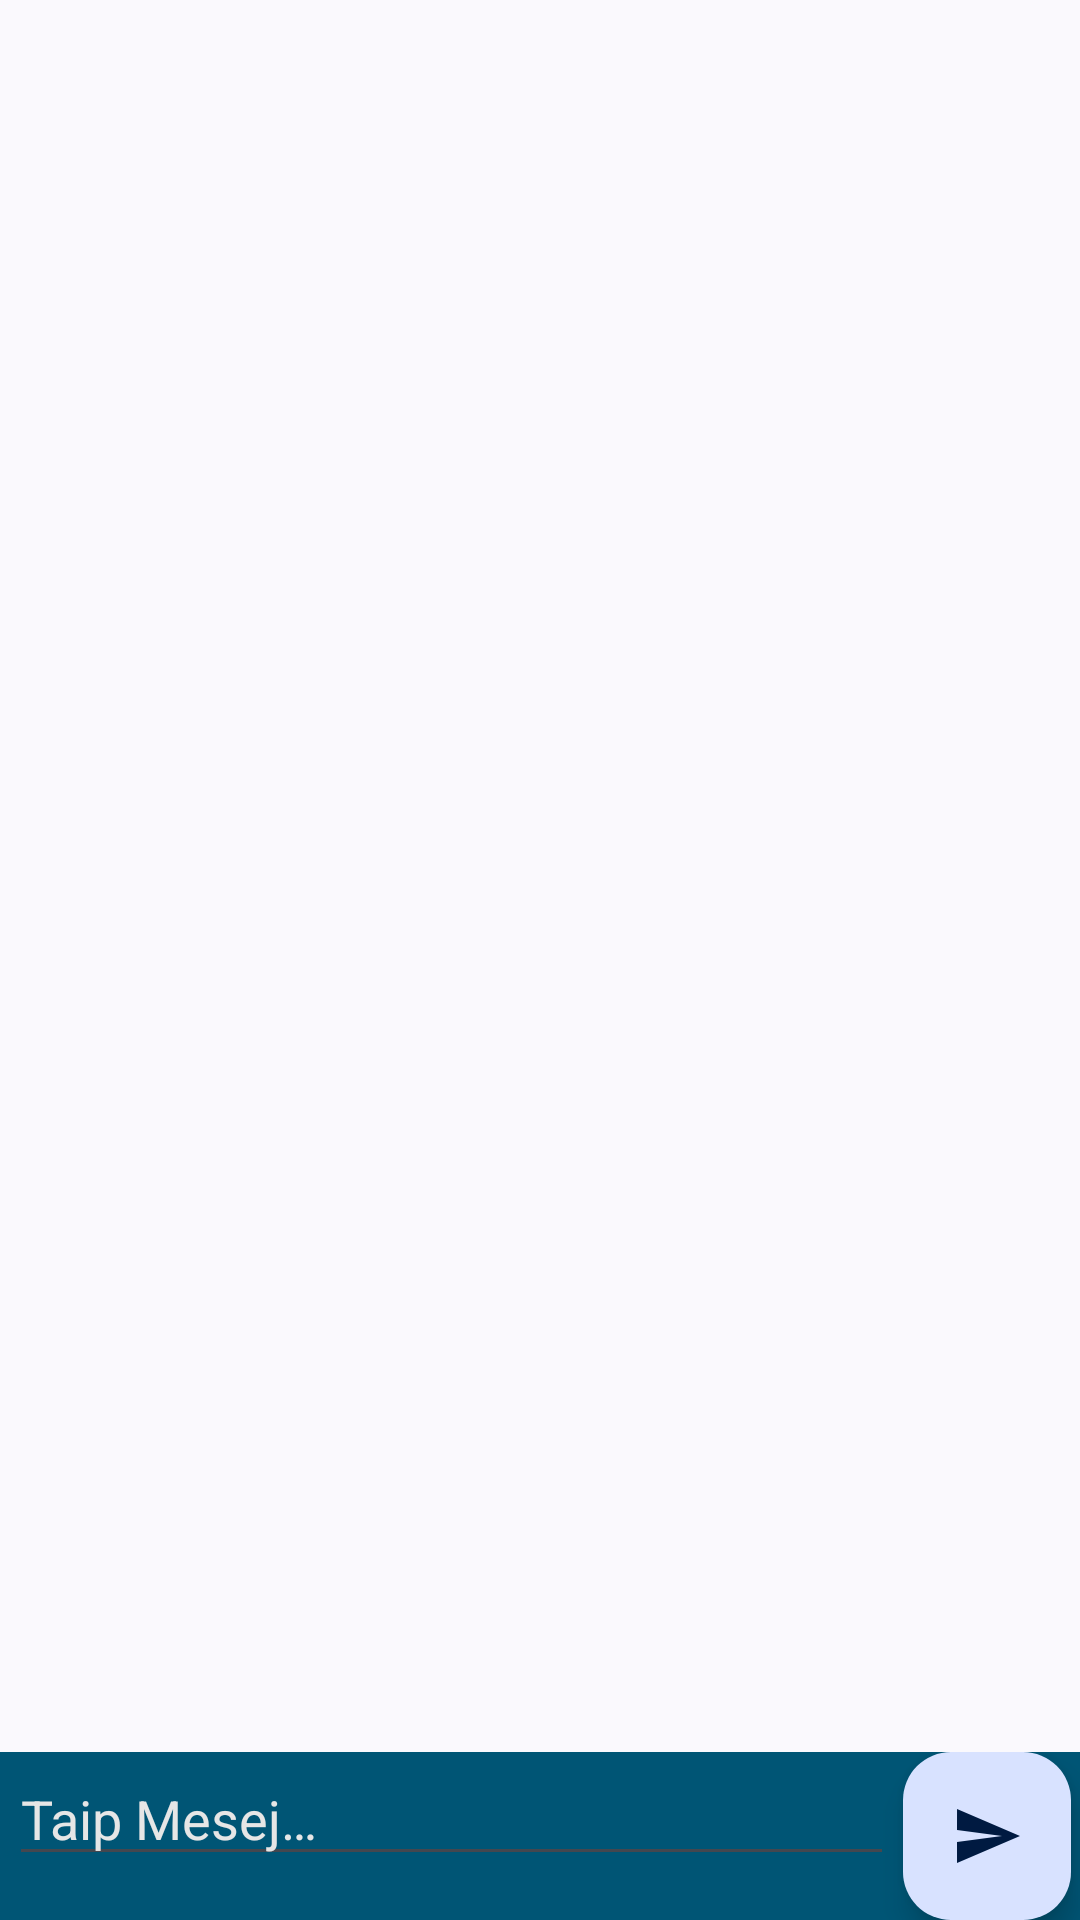

Icons on this 1080×1920 Android screen, each with the point to tap as (x,y):
send: (987,1836)
